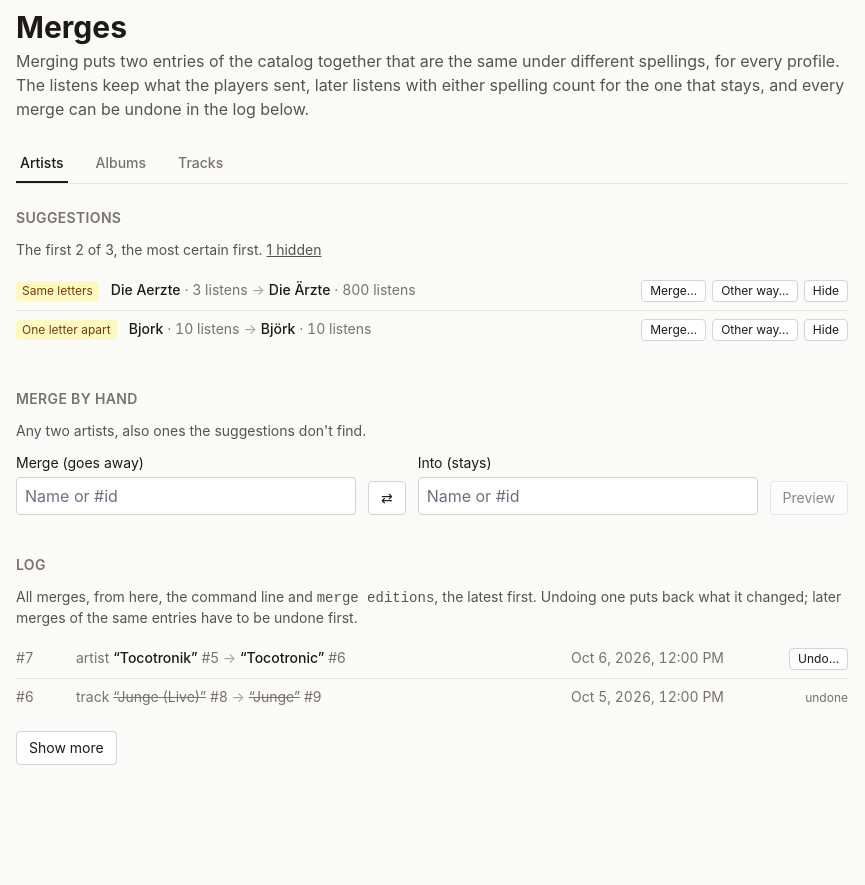
Test: merges page › merges the other way, or cancels
Click the button "Other way…" in the row of "Björk": (755, 330) [712, 319, 798, 341]
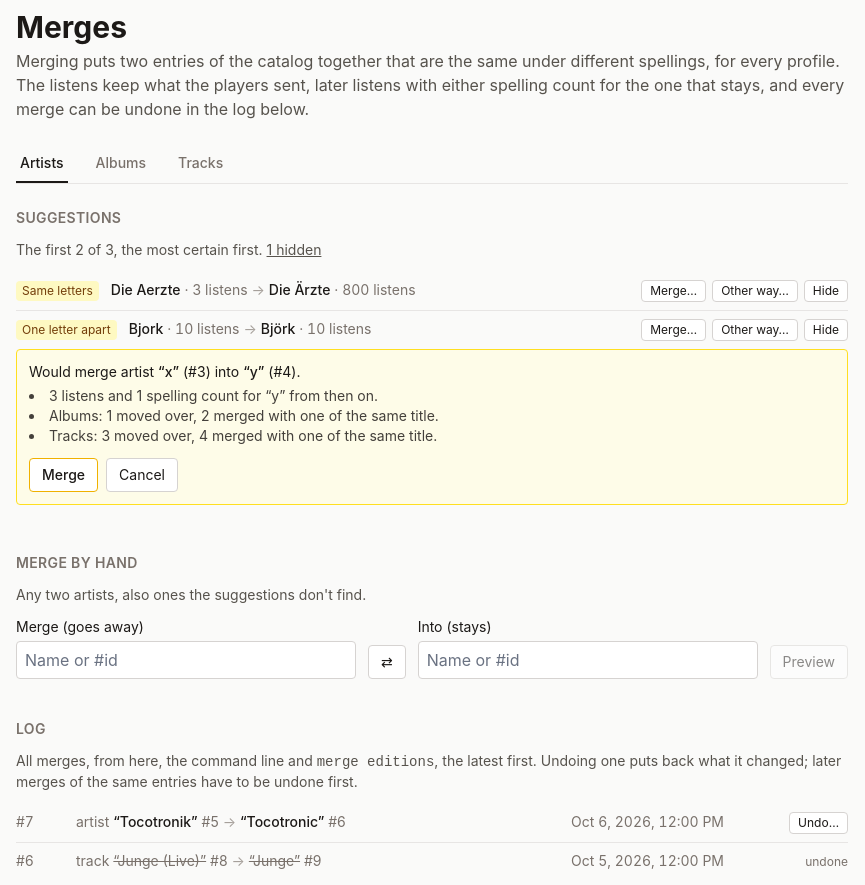
Click the button "Cancel": (142, 475) [106, 458, 178, 492]
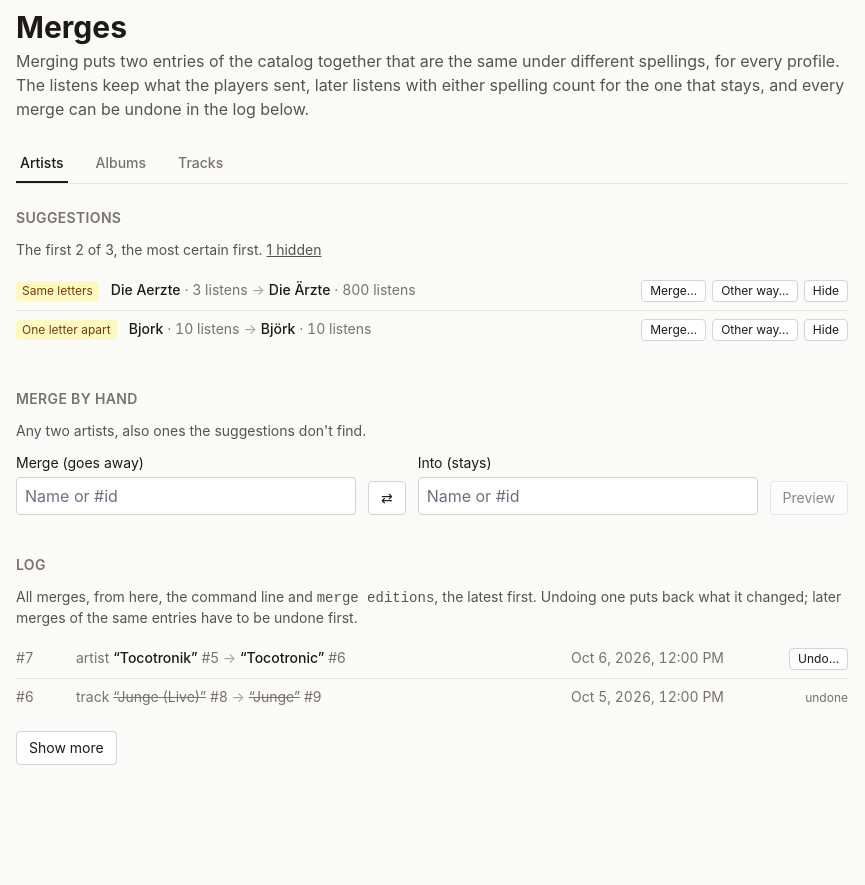
Expected: the text "Would merge" is gone
